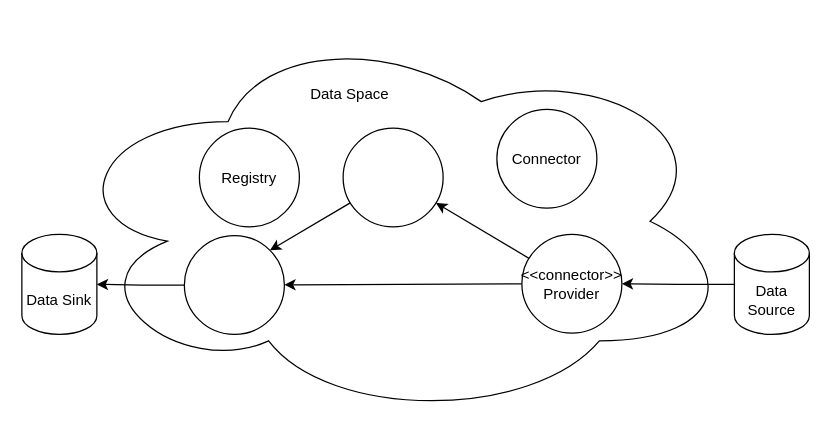
Image size: 831x443. Some labels were removed from this diagram. The centre of each missing label's shape, as x and y in pixels:
"<<connector>> Catalog" goes at pixel 392 177.
"<<connector>> Consumer" goes at pixel 233 284.
